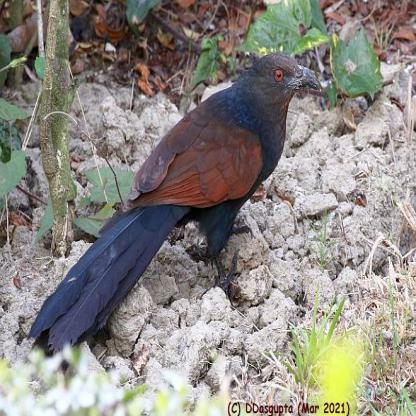Burung: (27, 53, 319, 358)
